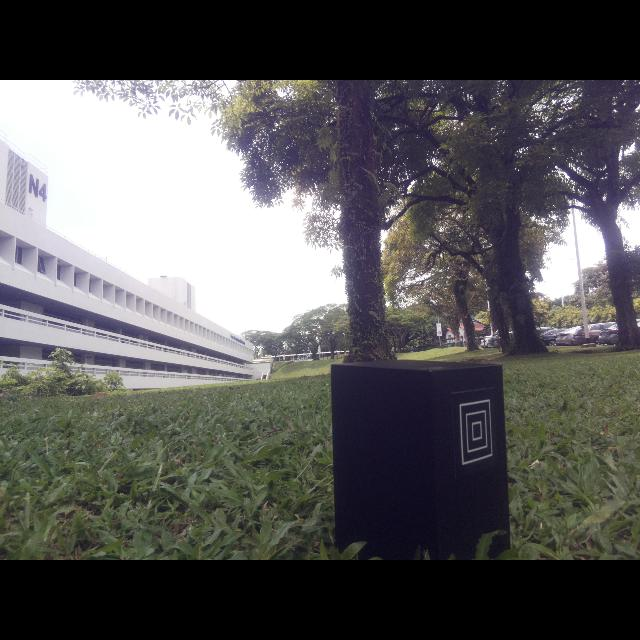BULLSEYE: (459, 399, 493, 466)
